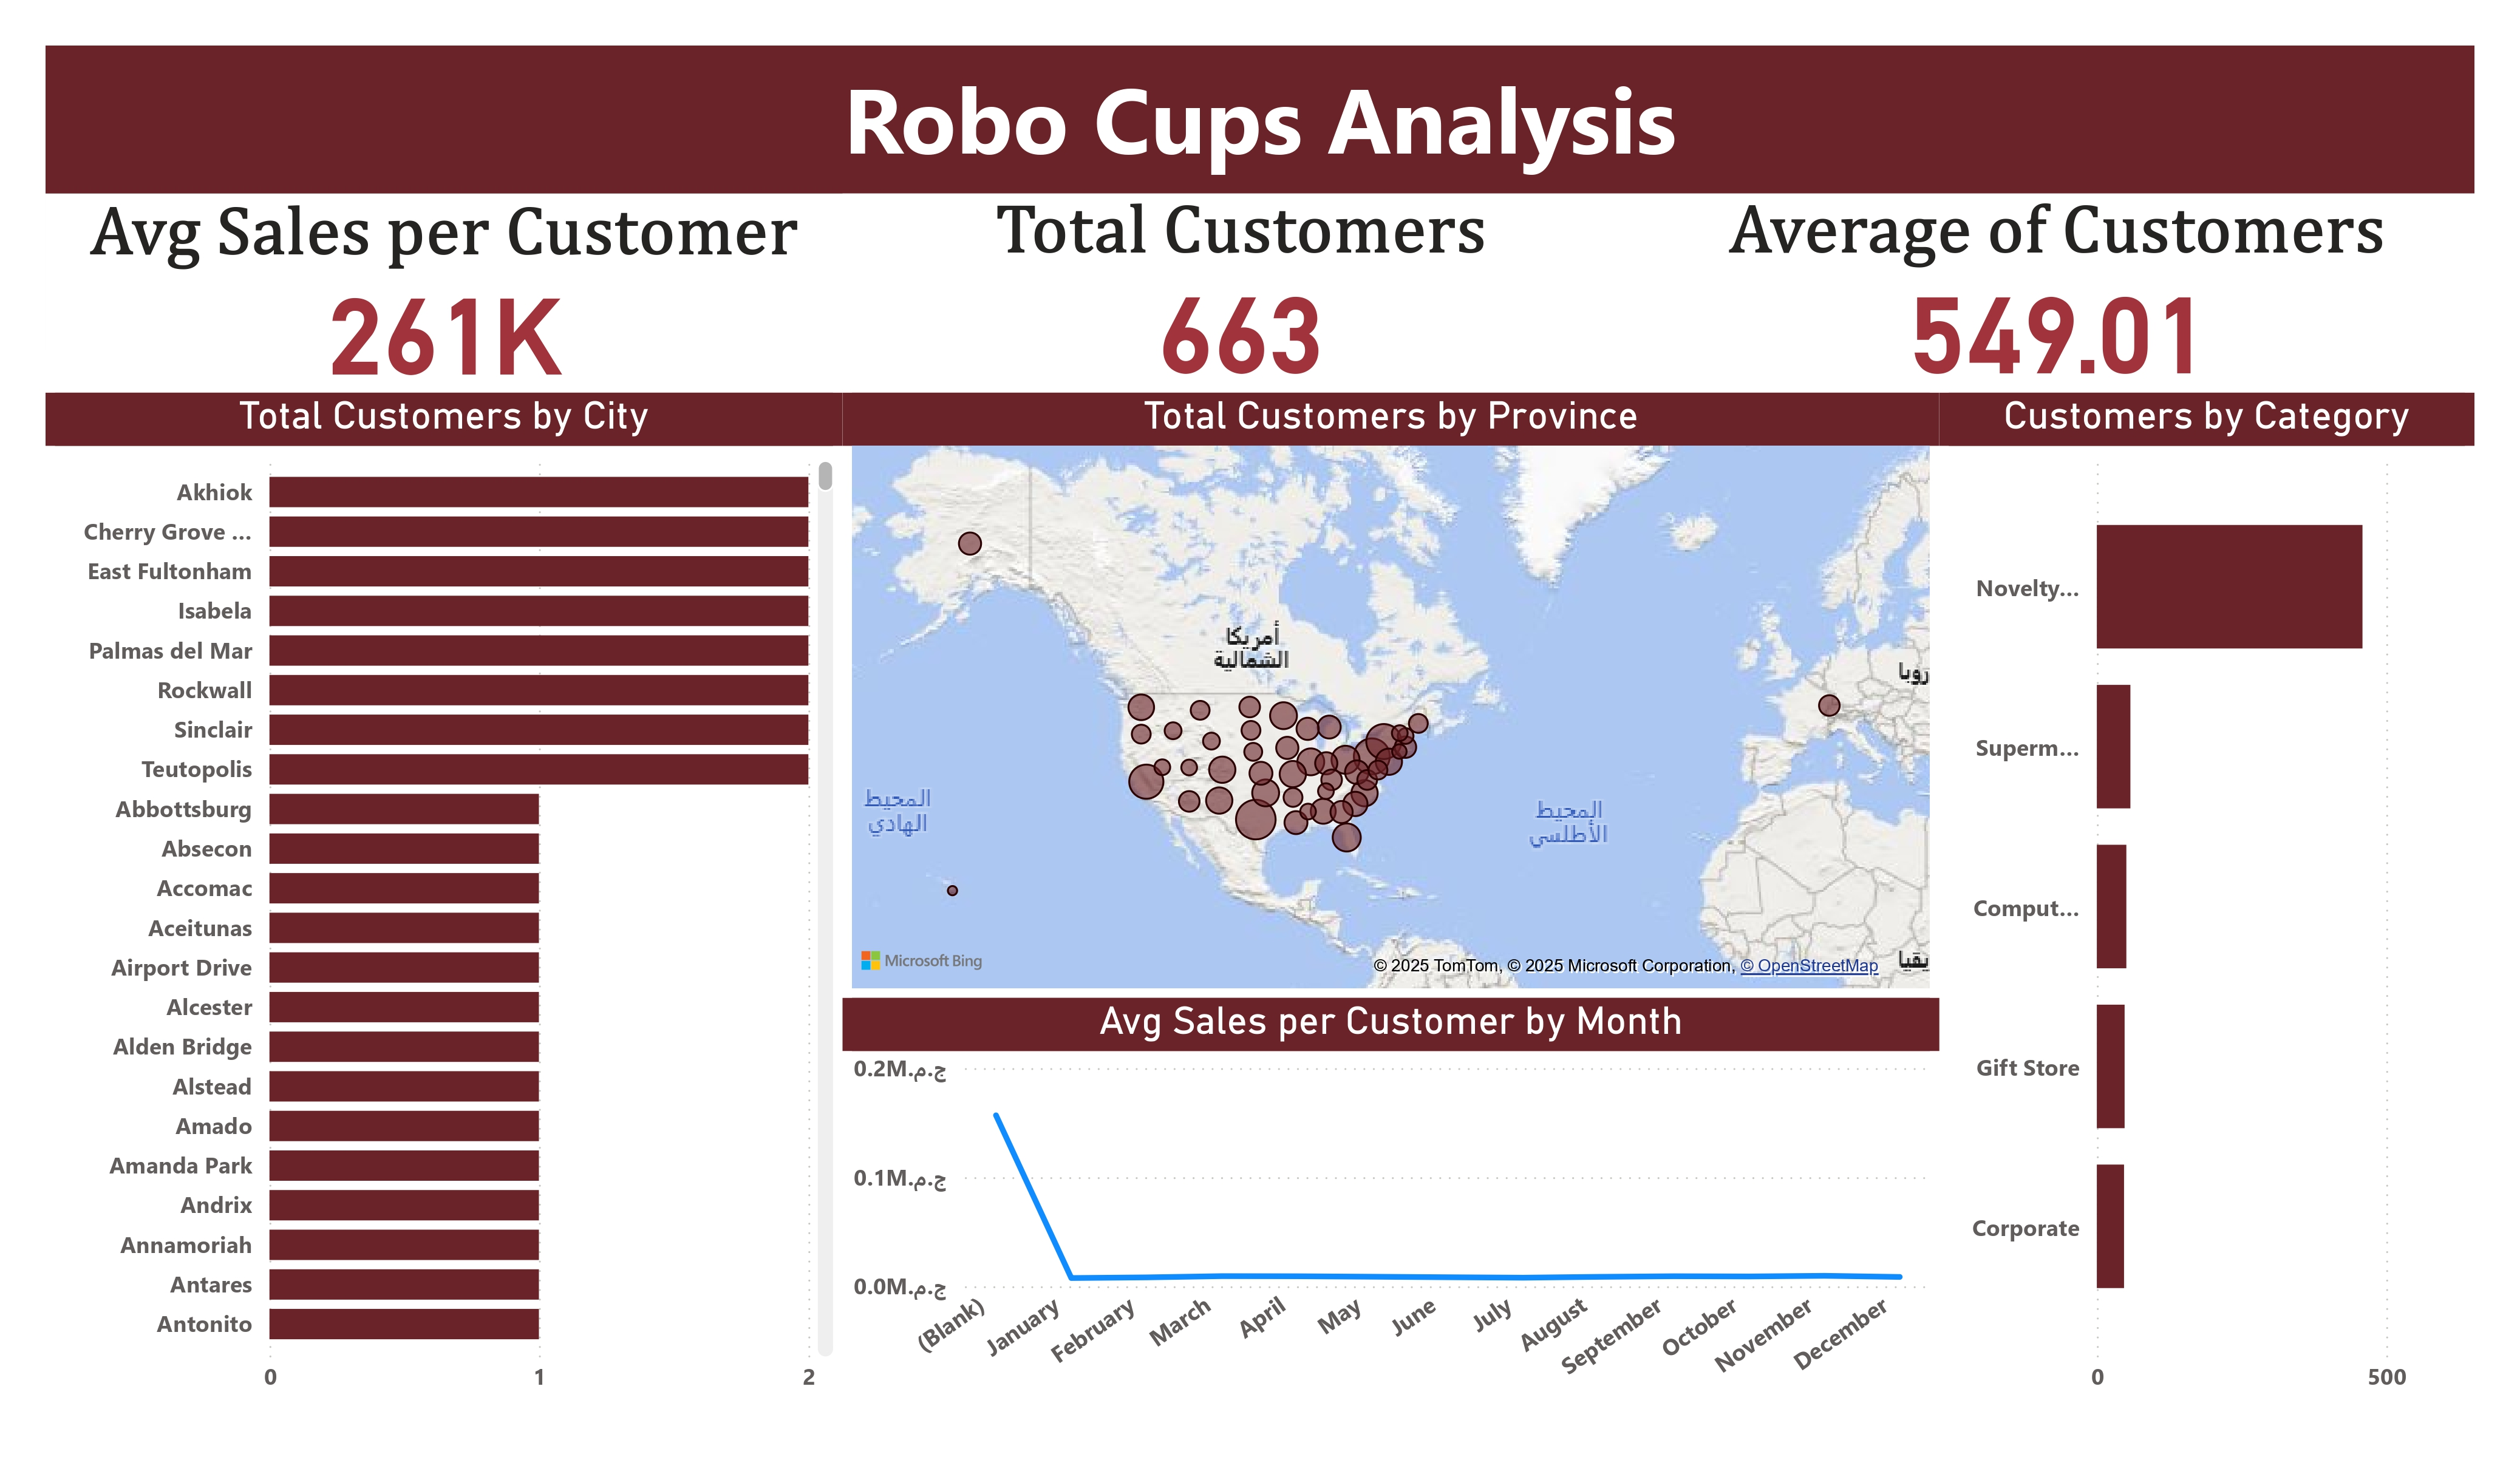

This screenshot's page, from the dashboard's own definition file:
{"tool":"powerbi","page":{"name":"Customer","canvas":[1280,720],"ordinal":2},"visuals":[{"type":"textbox","box":[0,0,1280,78.3],"z":0},{"type":"card","title":"Avg Sales per Customer","fields":{"Values":["InvoiceData.Avg Sales per Customer"]},"box":[0,78.6,420,104.3],"z":1000},{"type":"card","title":"Average of Customers","fields":{"Values":["MasterCustomer1.Average of Customers"]},"box":[840,78.3,440,105],"z":2000},{"type":"card","title":"Total Customers","fields":{"Values":["InvoiceData.Total Customers"]},"box":[420,78.3,420,105],"z":3000},{"type":"barChart","fields":{"Y":["InvoiceData.Total Customers"],"Category":["MasterCustomer1.City"]},"box":[0,183.3,420,536.7],"z":4000},{"type":"map","fields":{"Size":["InvoiceData.Total Customers"],"Category":["MasterCustomer1.Province"]},"box":[420,183.3,578.3,318.3],"z":5000},{"type":"barChart","title":"Customers by Category","fields":{"Category":["MasterCustomer1.CustomerCategoryName"],"Y":["InvoiceData.Total Customers"]},"box":[998.3,183.3,281.7,536.7],"z":6000},{"type":"lineChart","fields":{"Y":["InvoiceData.Avg Sales per Customer"],"Category":["InvoiceData.Date.Variation.Date Hierarchy.Month"]},"box":[420,501.7,578.3,218.3],"z":7000}]}

Visuals, with their boxes on the page's 1280x720 design canvas (x1, y1, x2, y2). These are canvas units, not pixel positions in the 2520x1457 screenshot, which may show the page scaled, cropped or inside an application window:
textbox: region(0, 0, 1280, 78)
"Avg Sales per Customer" card: region(0, 79, 420, 183)
"Average of Customers" card: region(840, 78, 1280, 183)
"Total Customers" card: region(420, 78, 840, 183)
barChart - InvoiceData.Total Customers x MasterCustomer1.City: region(0, 183, 420, 720)
map - InvoiceData.Total Customers x MasterCustomer1.Province: region(420, 183, 998, 502)
"Customers by Category" barChart: region(998, 183, 1280, 720)
lineChart - InvoiceData.Avg Sales per Customer x InvoiceData.Date.Variation.Date Hierarchy.Month: region(420, 502, 998, 720)
